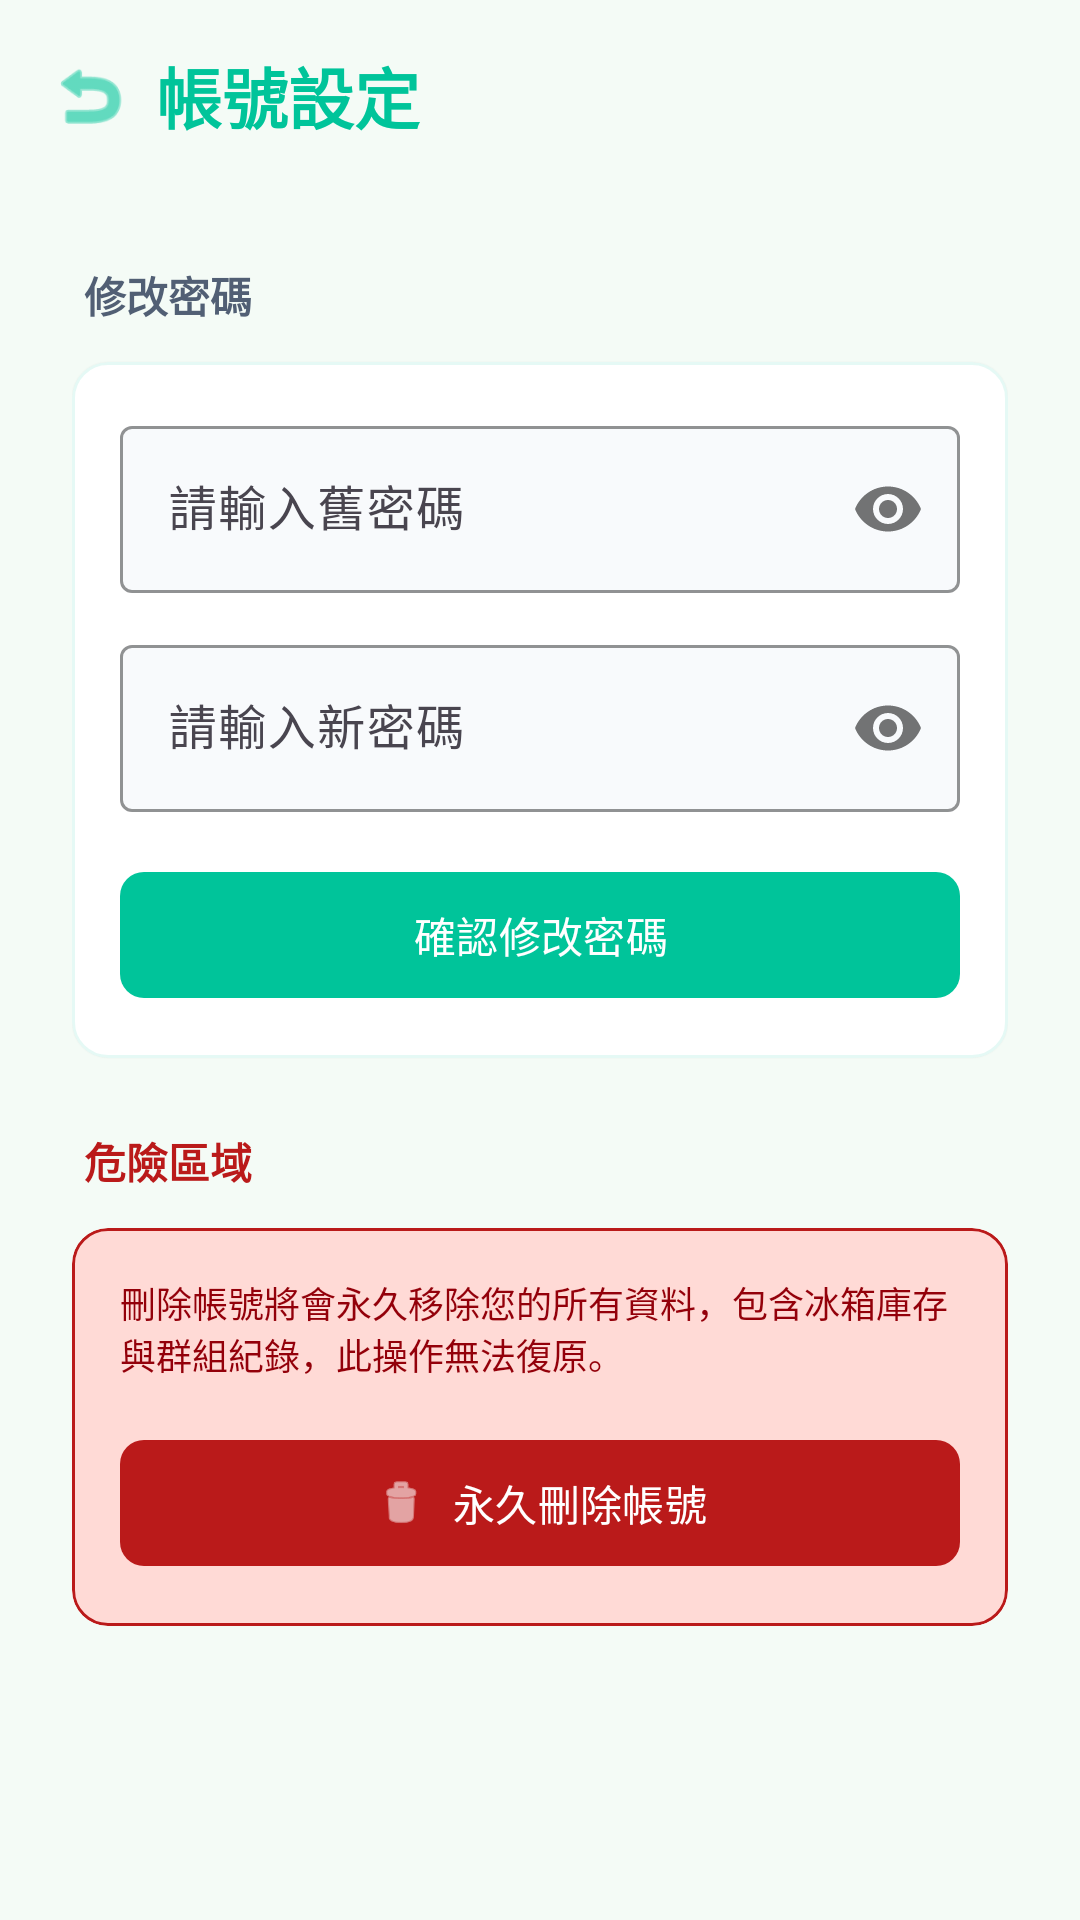

Icons on this 1080 x 1920 Android screen, each with the point to tap as (x,y):
revert: (91,96)
